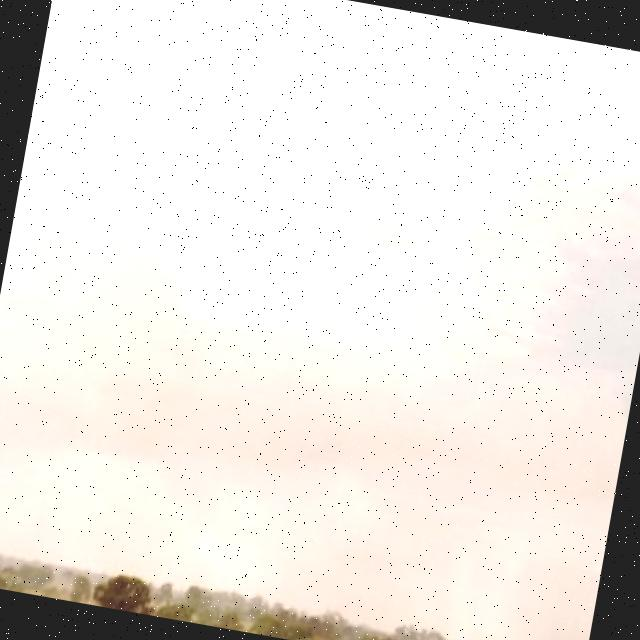St: (1, 2, 640, 597)
